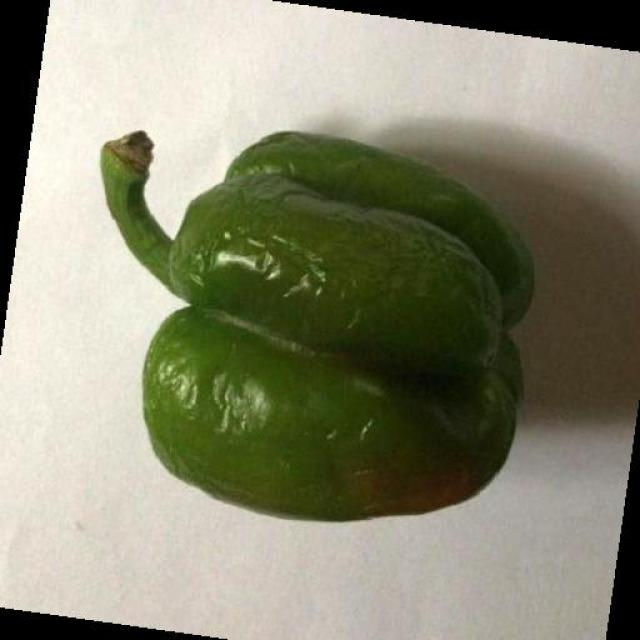Stale_Capsicum: (99, 84, 537, 548)
